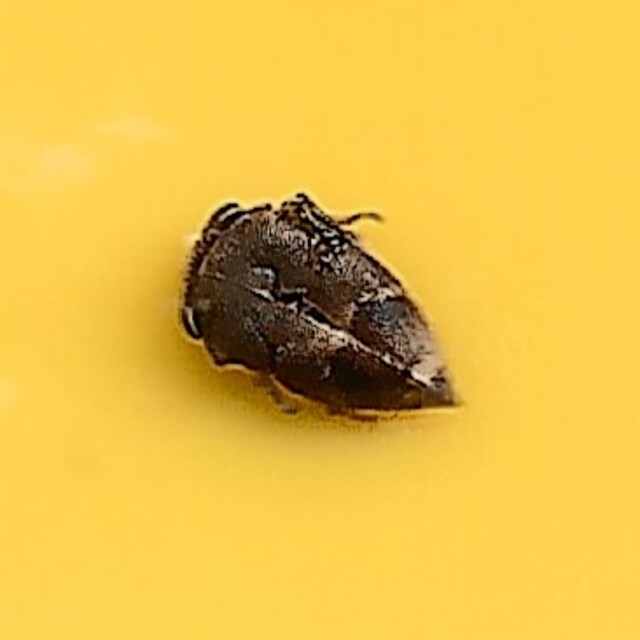Hemiptera: (175, 196, 465, 444)
